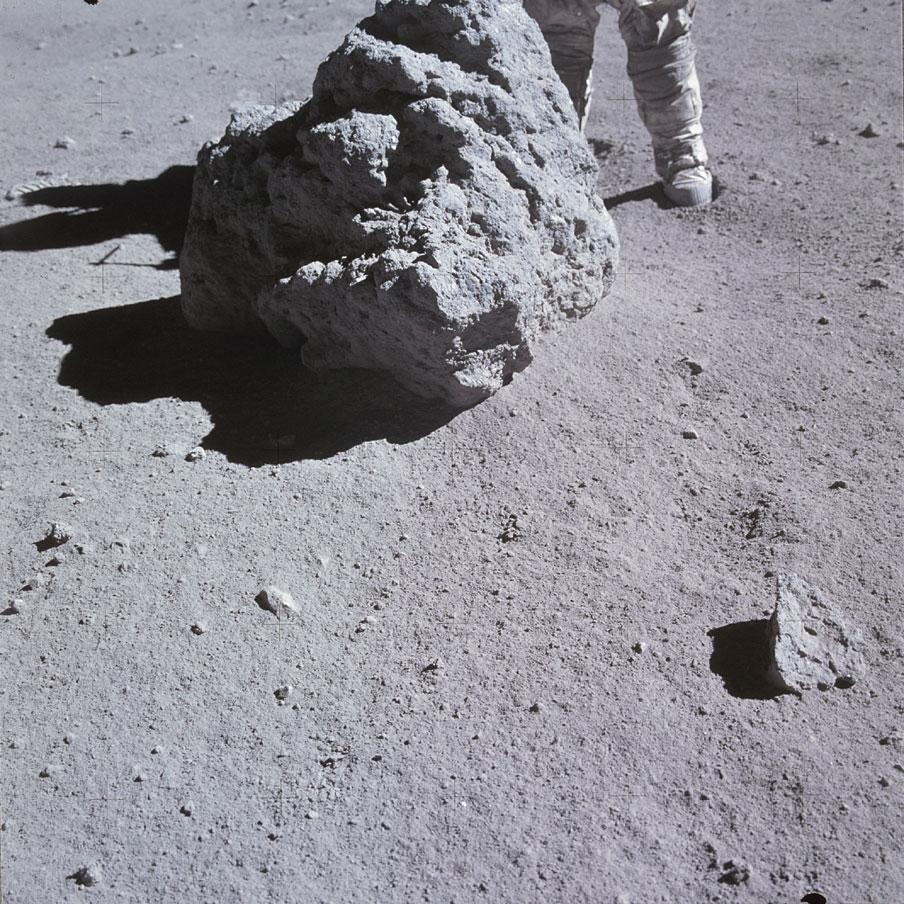rock: (180, 0, 618, 406)
